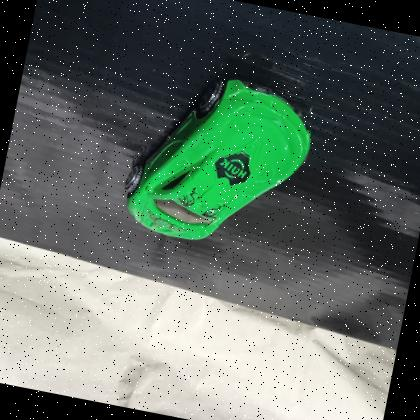Car: (112, 57, 330, 269)
